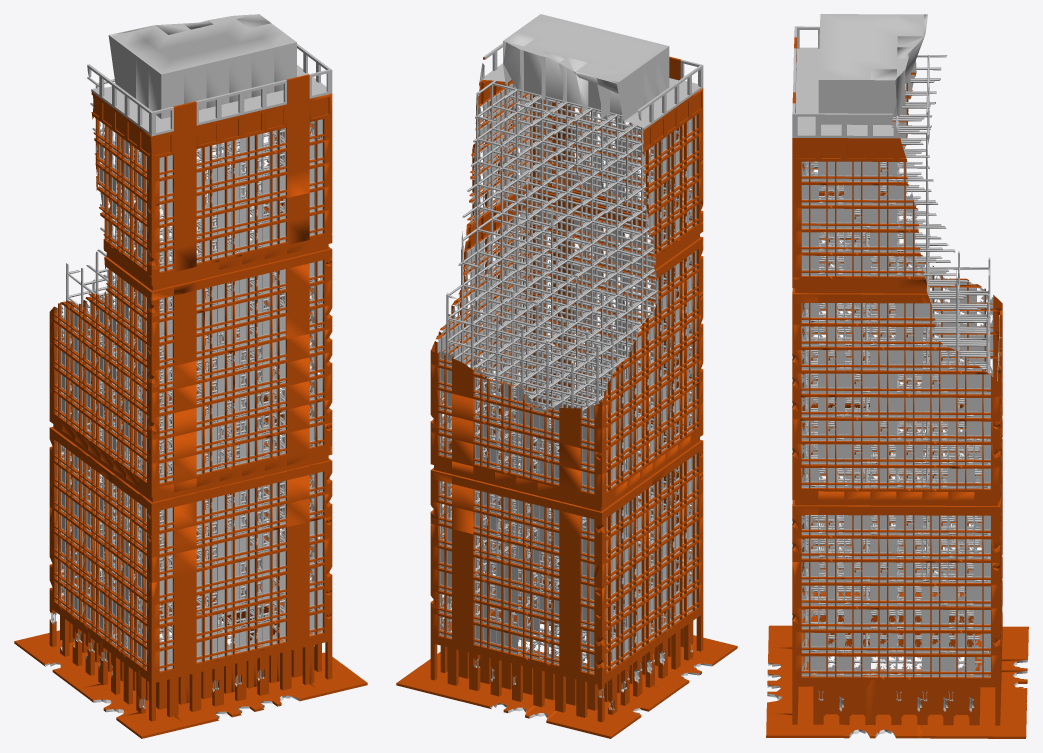
The model's file is post_apocalyptic_buildings_5.fbx.
3 renders of one model, left to right at view 1: azimuth 30°, elevation 25°; view 2: azimuth 150°, elevation 25°; view 3: azimuth 270°, elevation 25°, orthographic. The views are drawn at different scales.
Parts seen in each view (by area): view 1: post_apocalyptic_buildings_5; view 2: post_apocalyptic_buildings_5; view 3: post_apocalyptic_buildings_5.
Part boxes in pixels (x1,y1,x2,y2): post_apocalyptic_buildings_5: [14, 14, 367, 738]; post_apocalyptic_buildings_5: [396, 14, 737, 738]; post_apocalyptic_buildings_5: [766, 14, 1028, 738].
Bounding box in the file's own units: 87.9 × 235 × 87.9.
